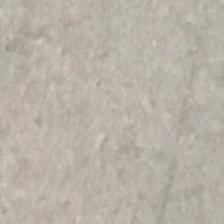Non_Crack: (18, 14, 224, 204)
